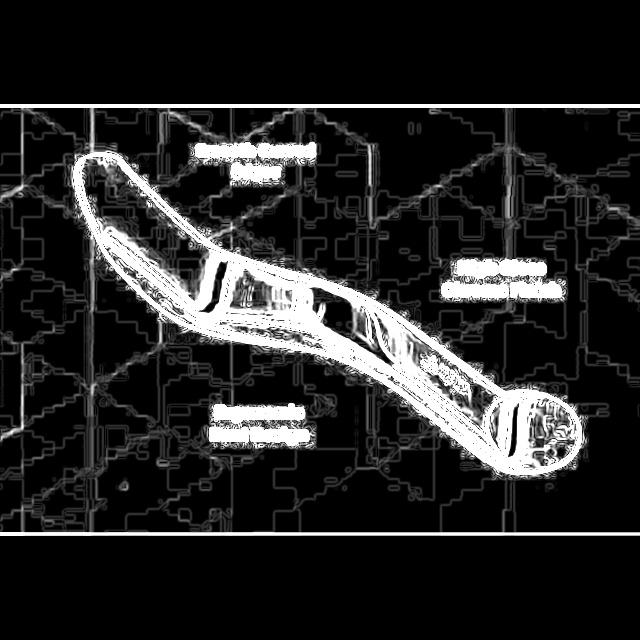separador: (71, 151, 589, 480)
